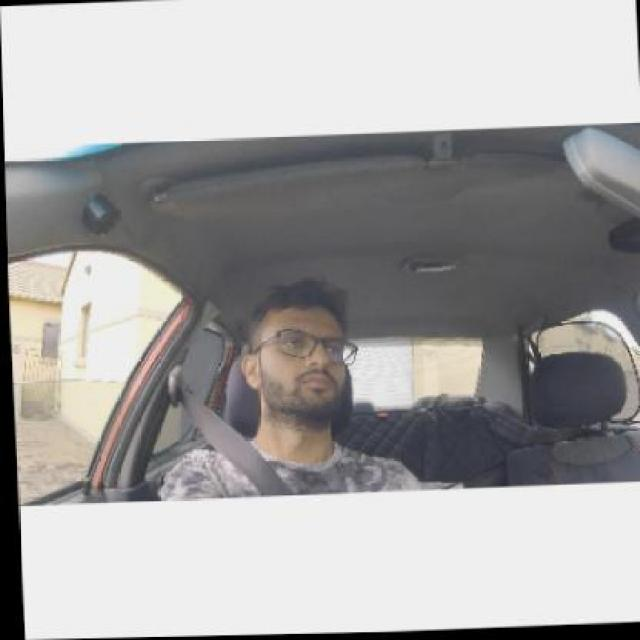person: (234, 274, 363, 436)
